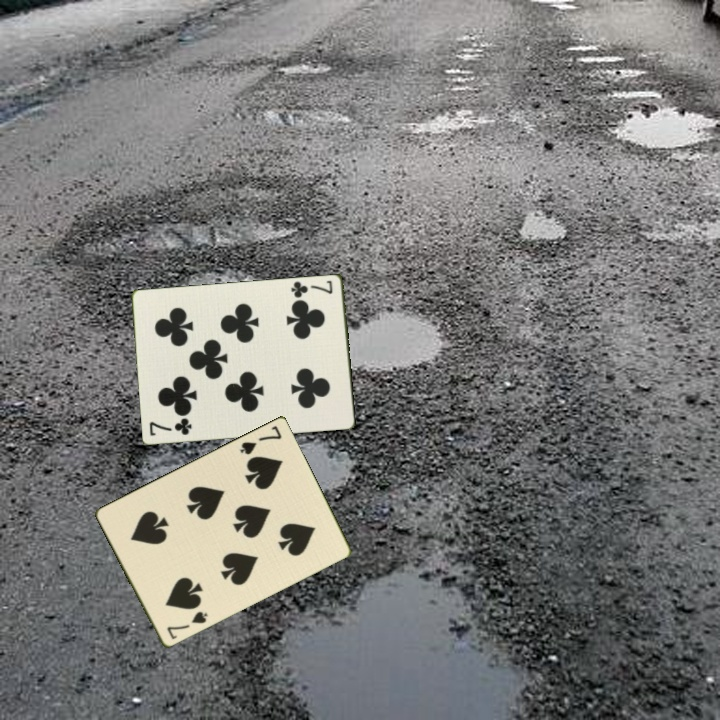7c: (287, 276, 336, 301), (146, 417, 195, 439)
7s: (236, 422, 284, 458), (163, 608, 211, 643)
